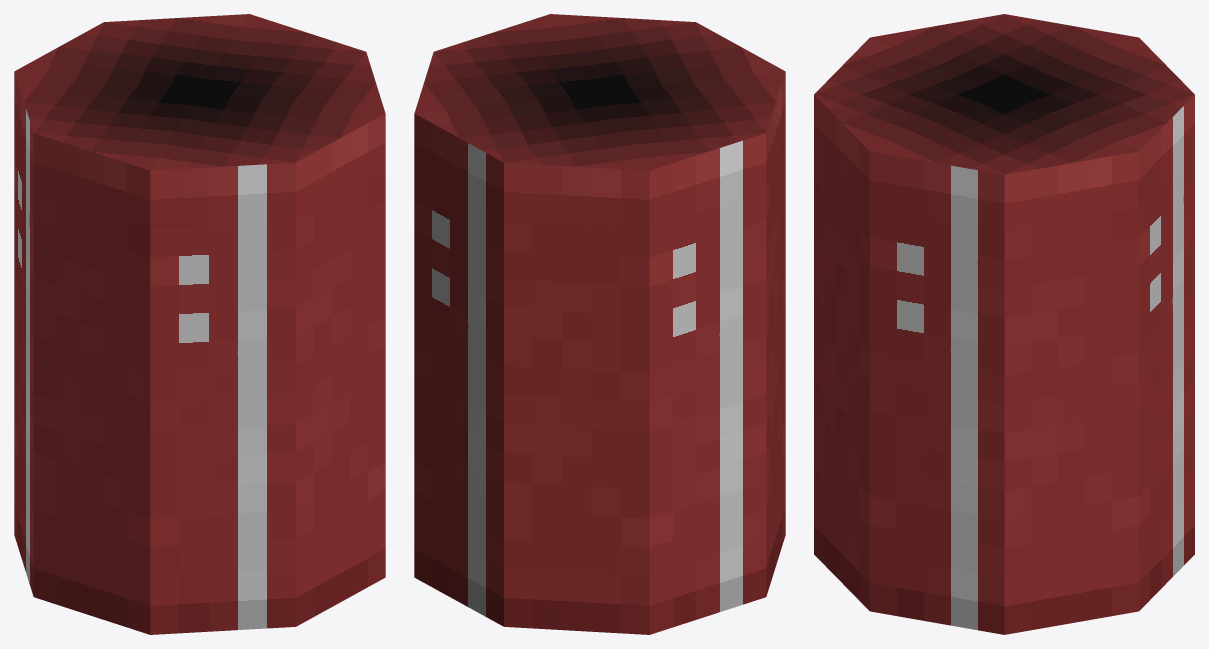
Rendered from pipe_red.obj.
3 views of the same model, side by side, from view 1: azimuth 30°, elevation 25°; view 2: azimuth 150°, elevation 25°; view 3: azimuth 270°, elevation 25° (orthographic).
Visible parts, largest first — view 1: Side, Top; view 2: Side, Top; view 3: Side, Top.
Boxes of the visible parts, box(x1,y1,x2,y2) form: Side: box(14, 71, 385, 634); Top: box(14, 14, 385, 170); Side: box(414, 71, 785, 634); Top: box(414, 14, 785, 170); Side: box(814, 94, 1194, 634); Top: box(814, 14, 1194, 174).
Bounding box in the file's own units: 0.75 × 1 × 0.75.
